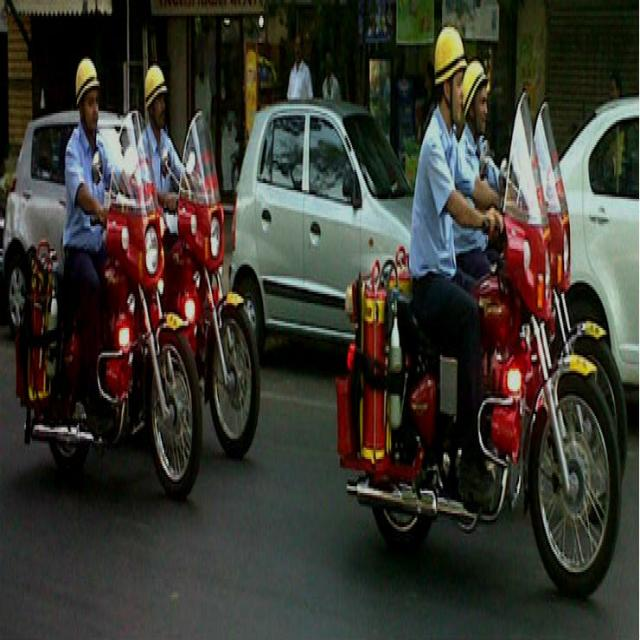car: (231, 101, 412, 340)
motorcycle: (336, 29, 621, 597), (16, 59, 201, 500), (145, 65, 259, 456)
